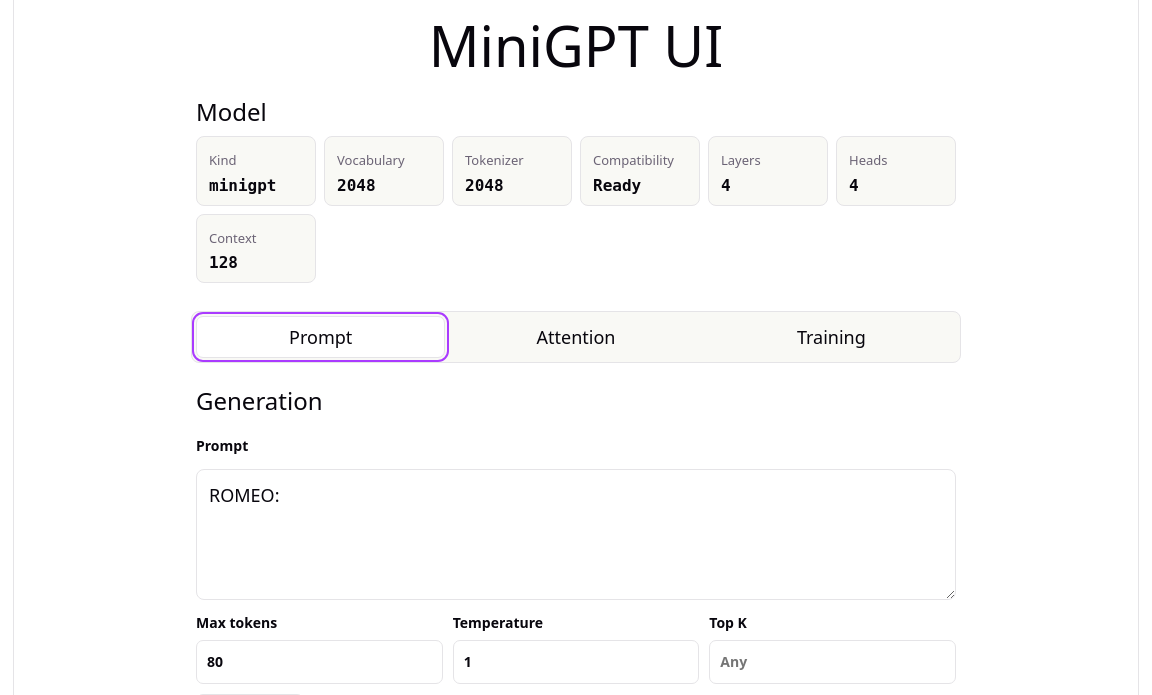
Test: App generation flow › keeps prompt, attention, and training concerns in separate workspaces
Expected: the text "Ready" is shown, x1=593 y1=176 x2=641 y2=194
Expected: the heading "Generation" is shown, x1=196 y1=384 x2=322 y2=417
Press Arrowright
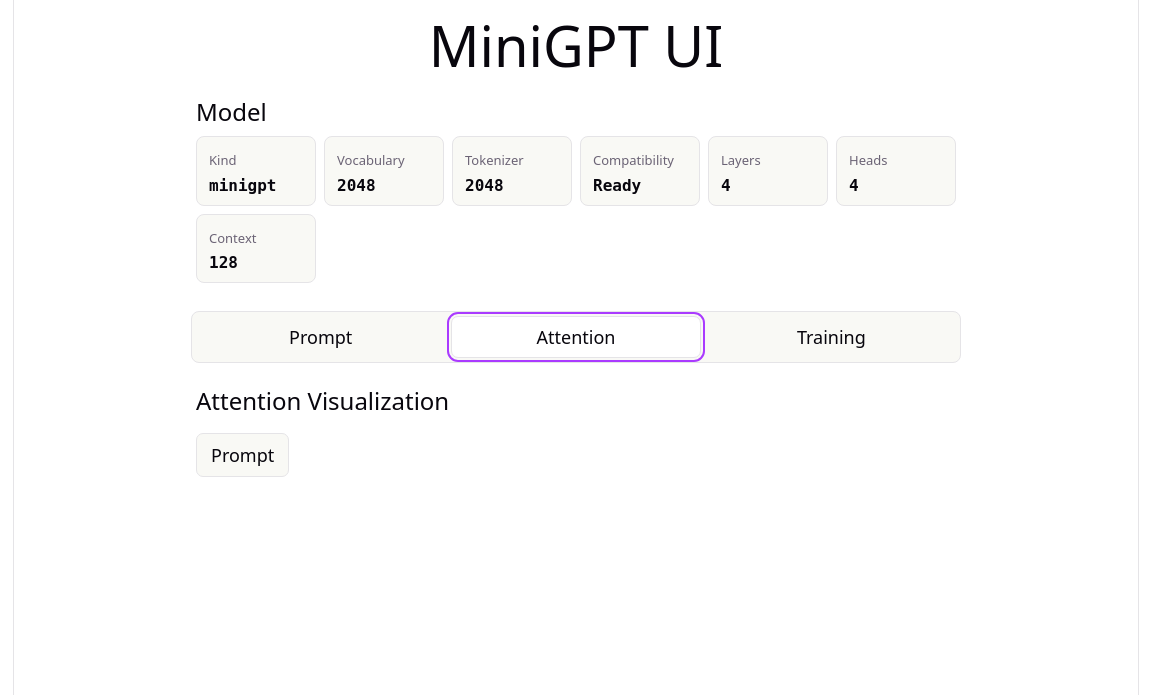
Expected: the heading "Attention Visualization" is shown, x1=196 y1=384 x2=449 y2=417
Expected: the button "Prompt" is shown, x1=196 y1=433 x2=289 y2=478
Click the tab "Training". click: (831, 337)
box: x1=707 y1=316 x2=956 y2=358
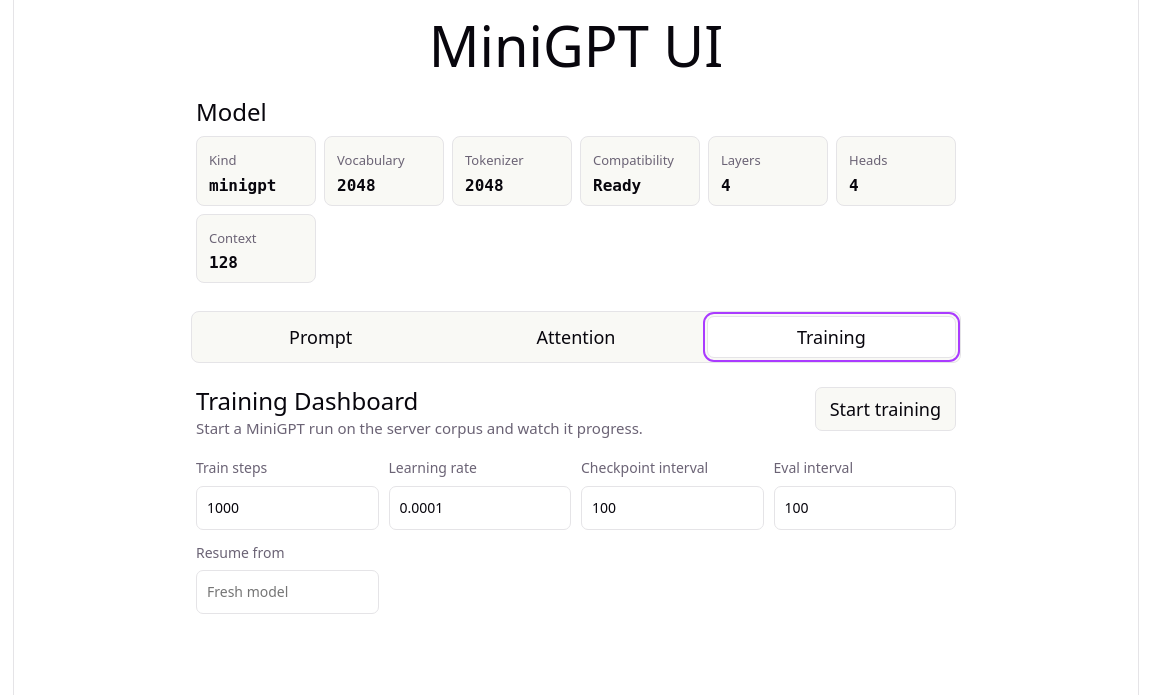
Expected: the button "Start training" is enabled, x1=815 y1=387 x2=956 y2=431
Expected: the heading "Training Dashboard" is shown, x1=196 y1=384 x2=418 y2=417
